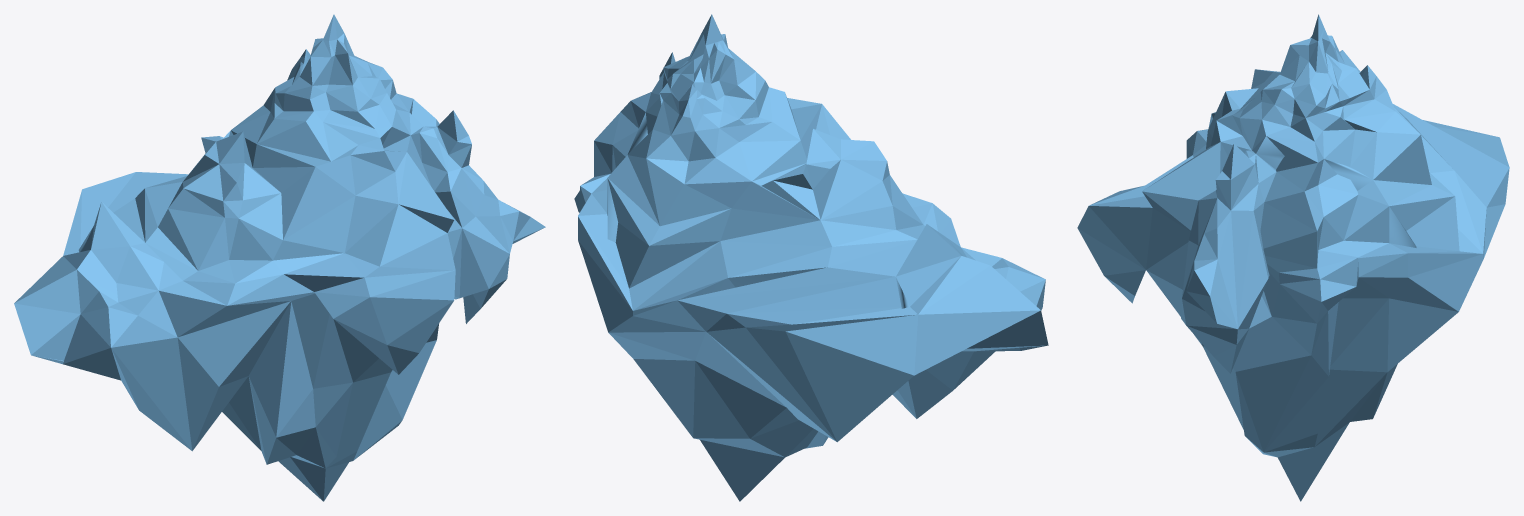
The model's file is BackGroundBreakIce.fbx.
The picture shows the model from 3 angles, left to right: view 1: azimuth 30°, elevation 25°; view 2: azimuth 150°, elevation 25°; view 3: azimuth 270°, elevation 25°; orthographic projection. The views are drawn at different scales.
Parts seen in each view (by area): view 1: ICE1, ICE2, ICE3.004, ICE3.003, ICE3.005, ICE3.001, ICE1.001, ICE3, ICE3.002, ICE3.006; view 2: ICE1, ICE3, ICE3.001, ICE3.005, ICE1.001, ICE3.004, ICE3.003, ICE3.006, ICE3.002; view 3: ICE1, ICE1.001, ICE2, ICE3.
Boxes of the visible parts, left/top/right/bottom form: ICE1: left=135, top=14, right=455, bottom=501; ICE2: left=419, top=110, right=545, bottom=323; ICE3.004: left=158, top=262, right=290, bottom=450; ICE3.003: left=77, top=269, right=192, bottom=450; ICE3.005: left=63, top=202, right=163, bottom=290; ICE3.001: left=14, top=256, right=80, bottom=354; ICE1.001: left=353, top=93, right=439, bottom=460; ICE3: left=63, top=172, right=188, bottom=255; ICE3.002: left=31, top=314, right=120, bottom=380; ICE3.006: left=113, top=198, right=261, bottom=450; ICE1: left=578, top=14, right=950, bottom=501; ICE3: left=677, top=267, right=918, bottom=442; ICE3.001: left=914, top=265, right=1048, bottom=375; ICE3.005: left=896, top=224, right=989, bottom=314; ICE1.001: left=574, top=92, right=651, bottom=242; ICE3.004: left=892, top=219, right=973, bottom=418; ICE3.003: left=953, top=247, right=1045, bottom=389; ICE3.006: left=828, top=240, right=916, bottom=276; ICE3.002: left=962, top=279, right=1046, bottom=351; ICE1: left=1077, top=14, right=1505, bottom=501; ICE1.001: left=1233, top=136, right=1458, bottom=457; ICE2: left=1181, top=144, right=1276, bottom=373; ICE3: left=1393, top=104, right=1509, bottom=207.
Bounding box in the file's own units: 37410 × 35258 × 27762.
